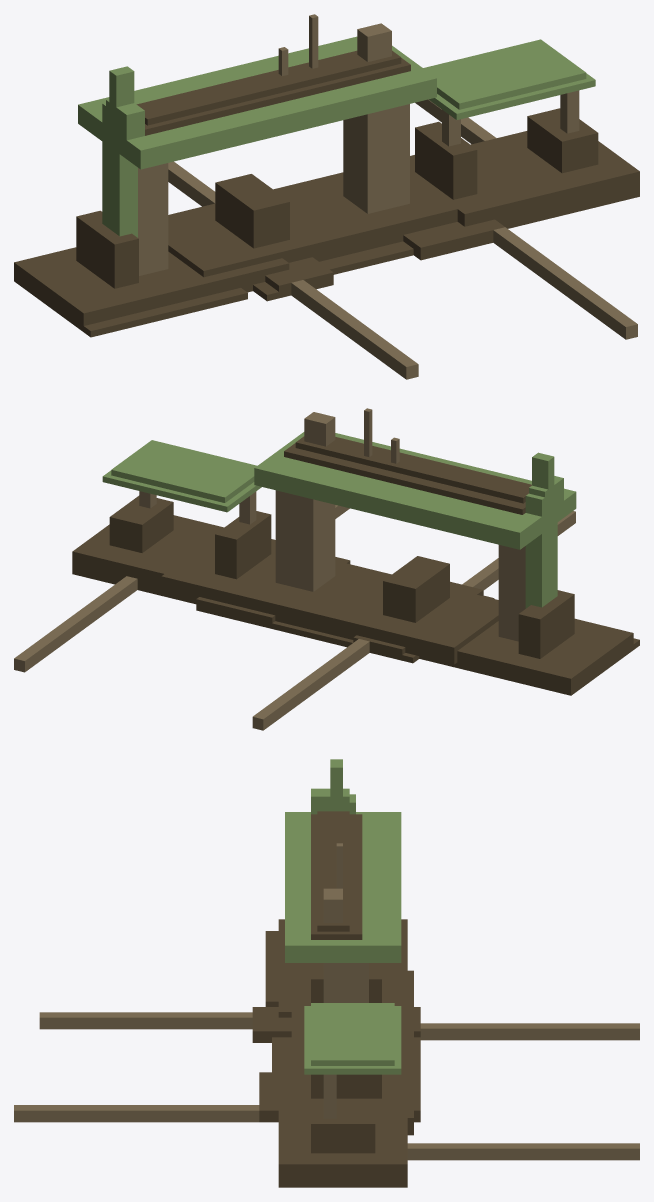
Rendered from Gas Station .glb.
The picture shows the model from 3 angles, top to bottom: view 1: azimuth 30°, elevation 25°; view 2: azimuth 150°, elevation 25°; view 3: azimuth 270°, elevation 25°; orthographic projection. The views are drawn at different scales.
Visible parts, largest first — view 1: Untitled; view 2: Untitled; view 3: Untitled.
Boxes of the visible parts, bbox=[...] form: Untitled: bbox=[14, 14, 639, 379]; Untitled: bbox=[14, 408, 639, 730]; Untitled: bbox=[14, 759, 639, 1187].
Bounding box in the file's own units: 9.2 × 3.6 × 9.7.
Materials: 1 (1 with a texture image).
